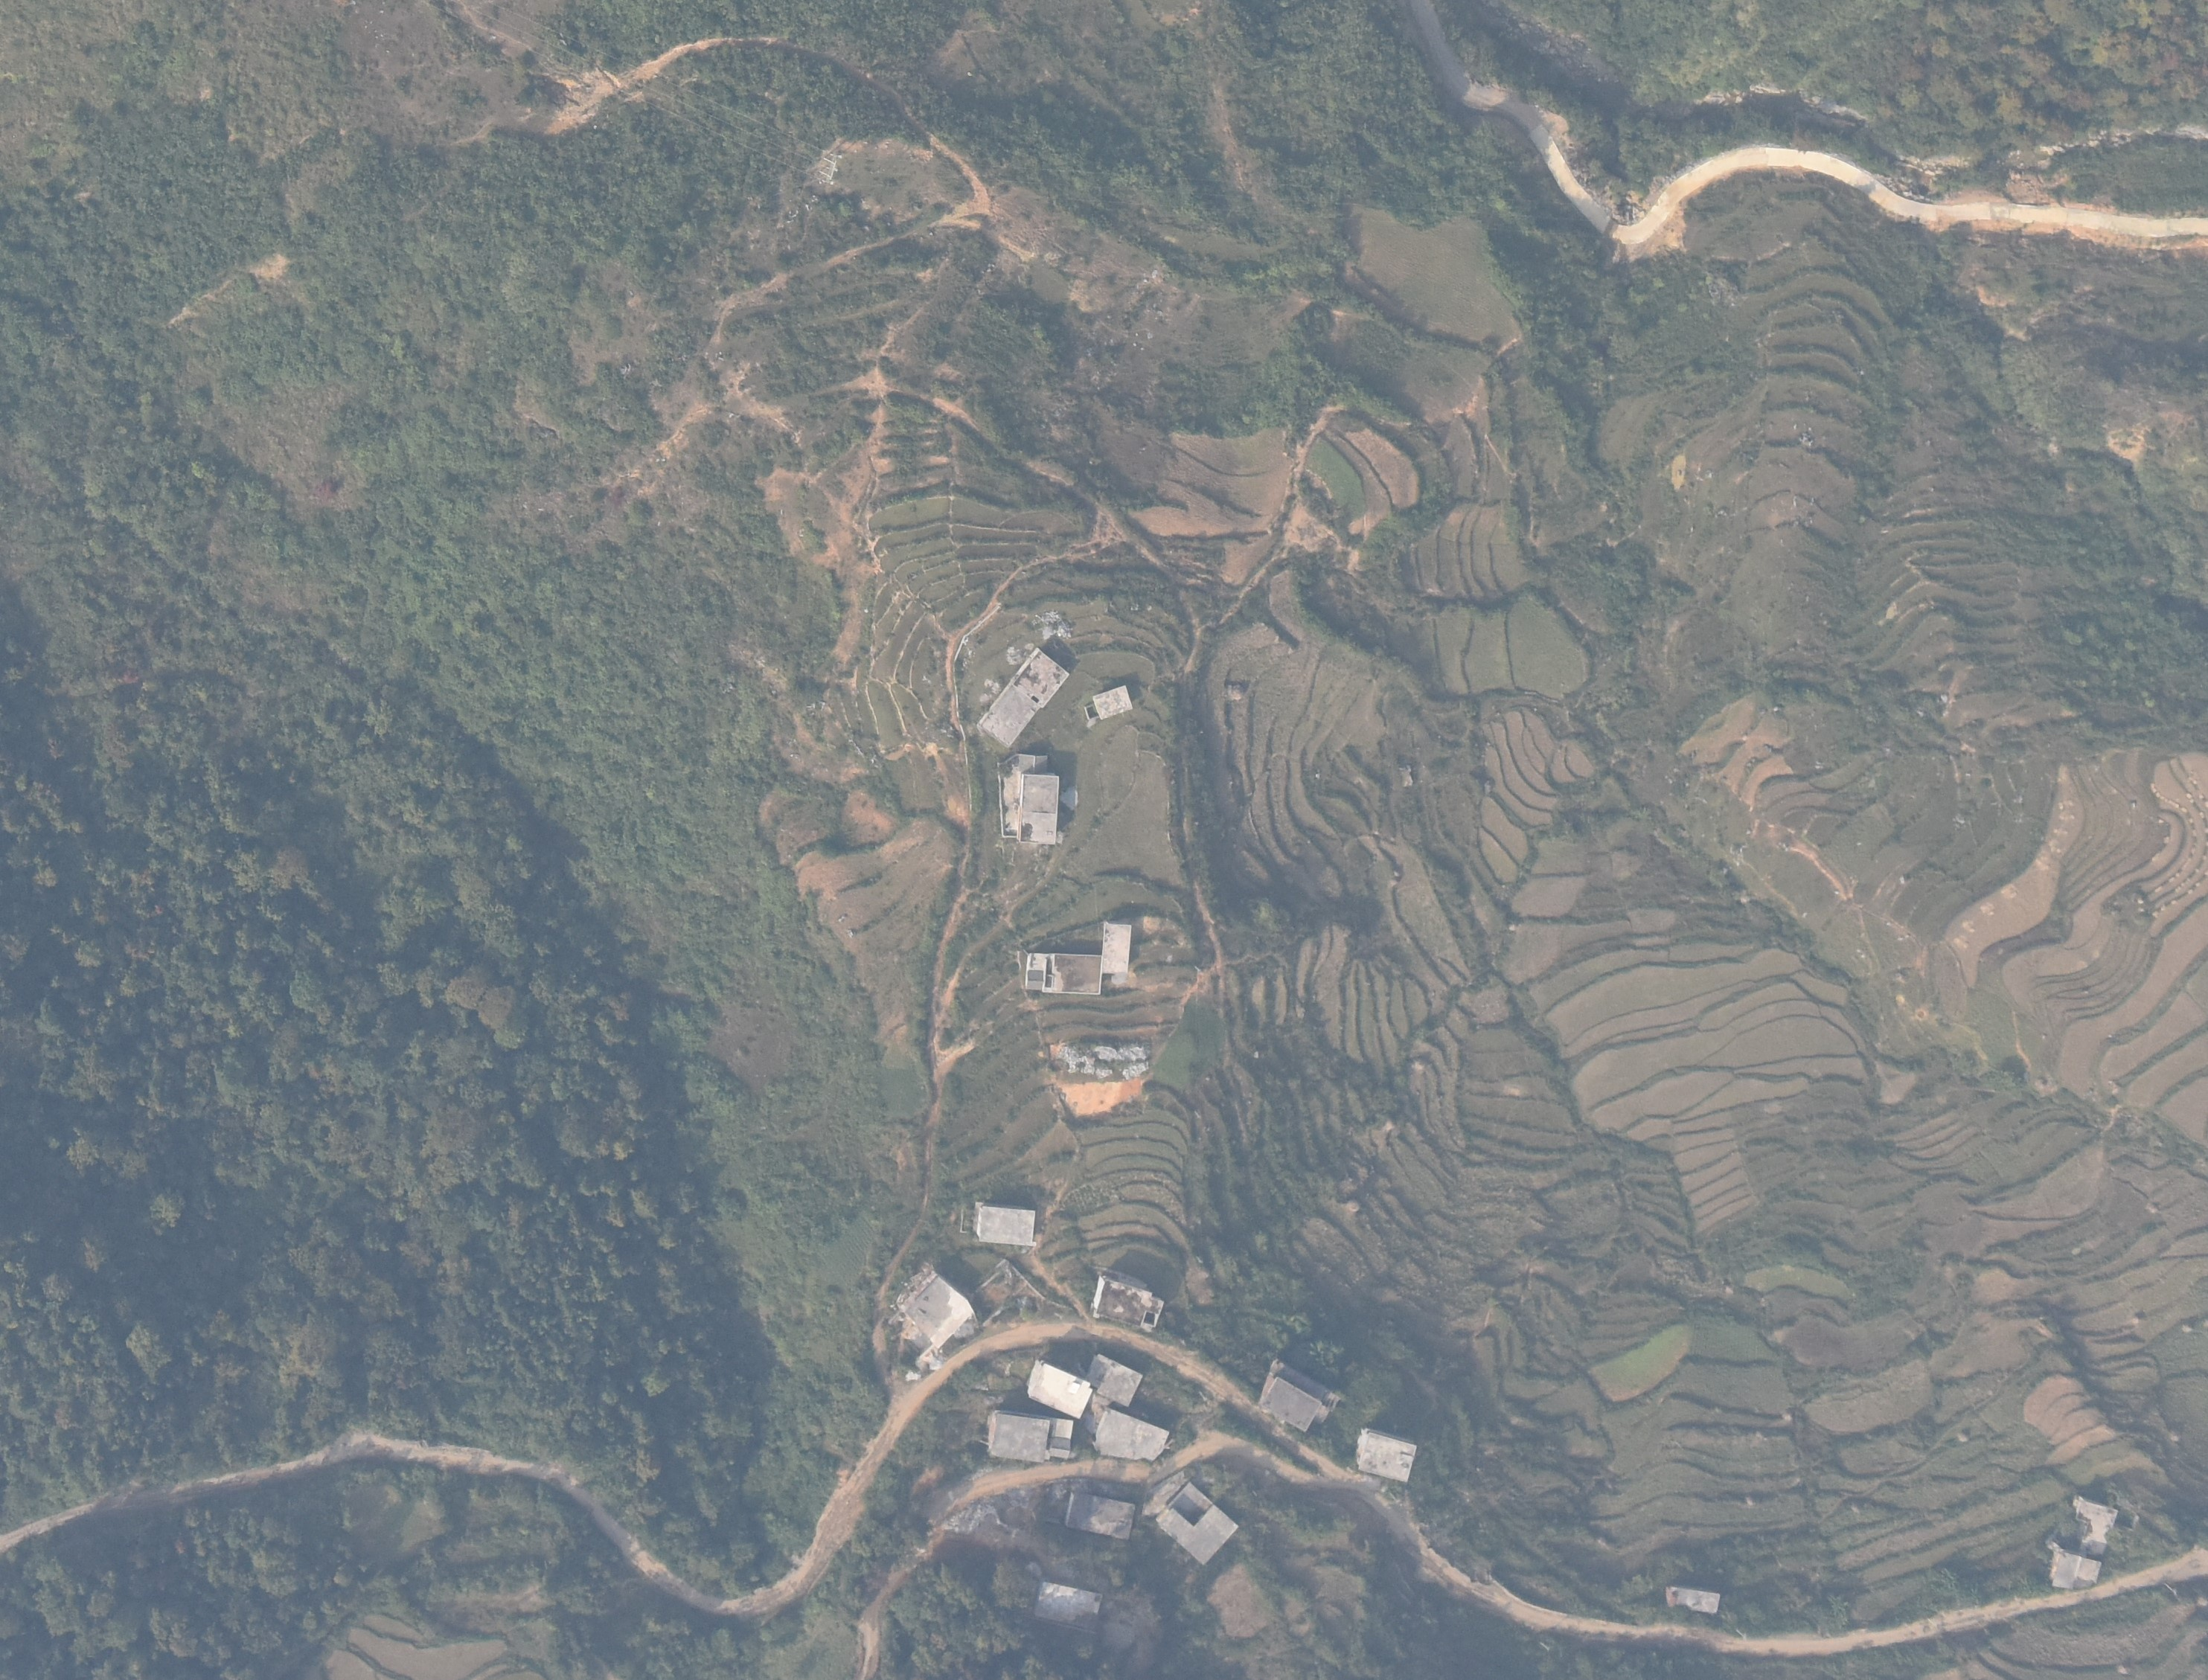building: (978, 646, 1070, 748), (1154, 1482, 1239, 1565), (1258, 1359, 1340, 1433), (997, 754, 1059, 845), (904, 1274, 974, 1350), (987, 1410, 1073, 1461), (1093, 1410, 1170, 1461), (1027, 1361, 1093, 1421), (1093, 1276, 1163, 1331), (1356, 1426, 1419, 1484), (1033, 1581, 1103, 1632), (1064, 1491, 1137, 1541), (960, 1202, 1036, 1248), (1024, 953, 1101, 997), (1089, 1354, 1144, 1406), (2074, 1495, 2120, 1548), (1082, 685, 1135, 722), (2051, 1551, 2102, 1588), (1101, 921, 1131, 974), (1666, 1586, 1721, 1615)
